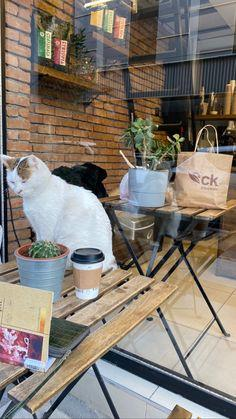kedo: (0, 152, 112, 249)
